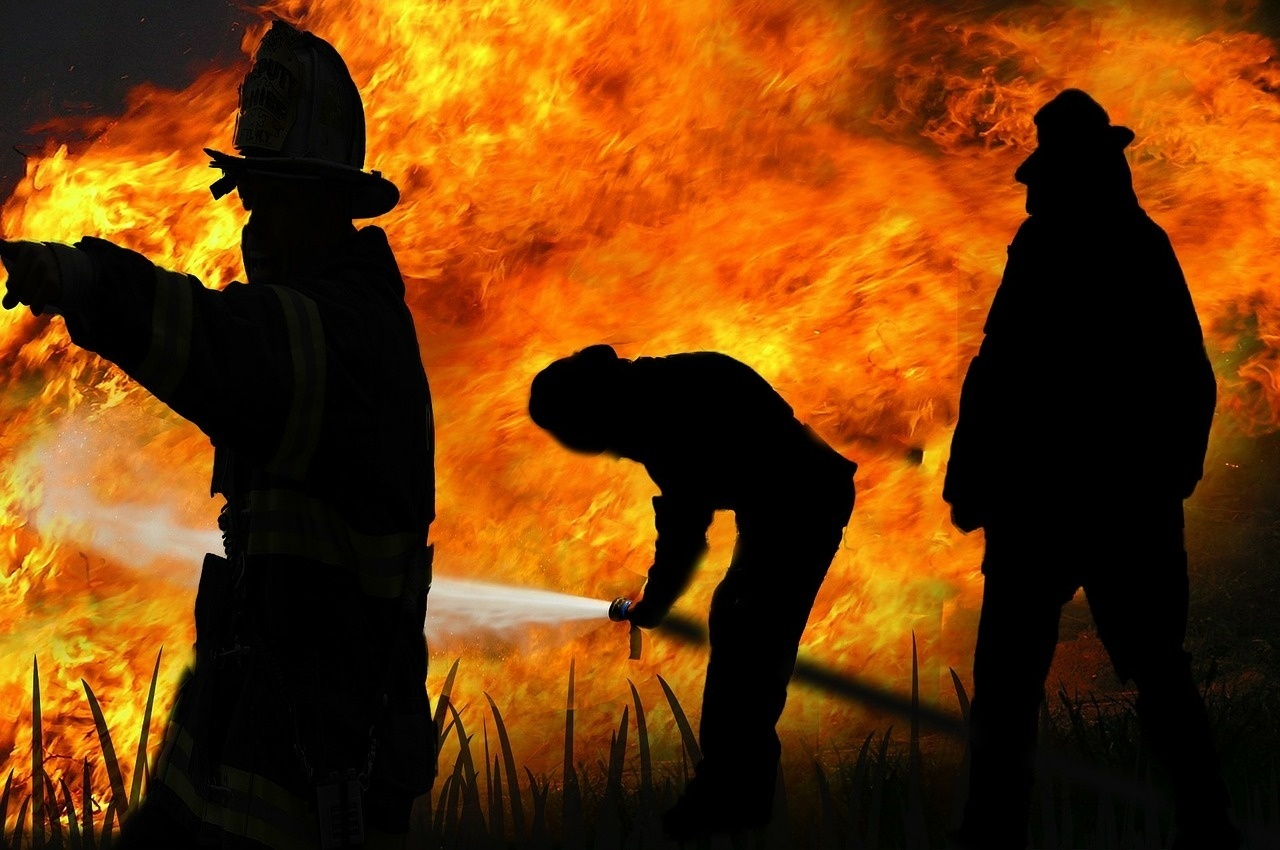fire: (0, 60, 228, 836)
